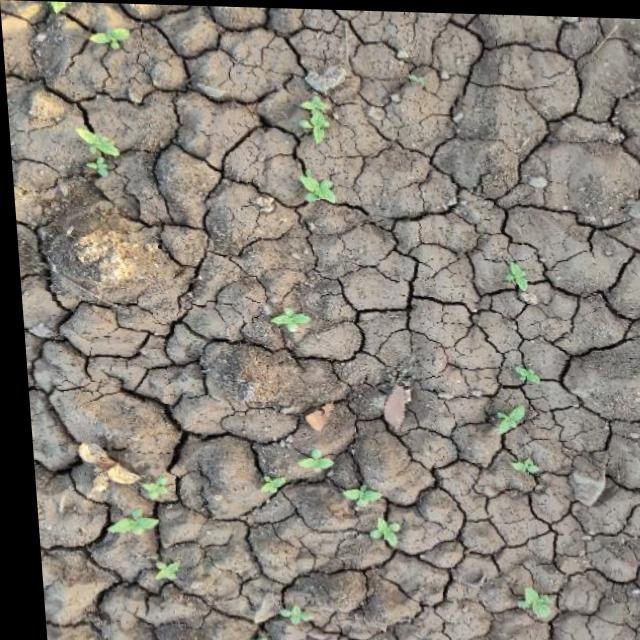crop: (89, 459, 186, 602), (288, 436, 398, 556), (485, 356, 549, 487), (289, 87, 346, 207), (64, 99, 122, 195), (252, 293, 309, 340), (490, 245, 535, 300)
